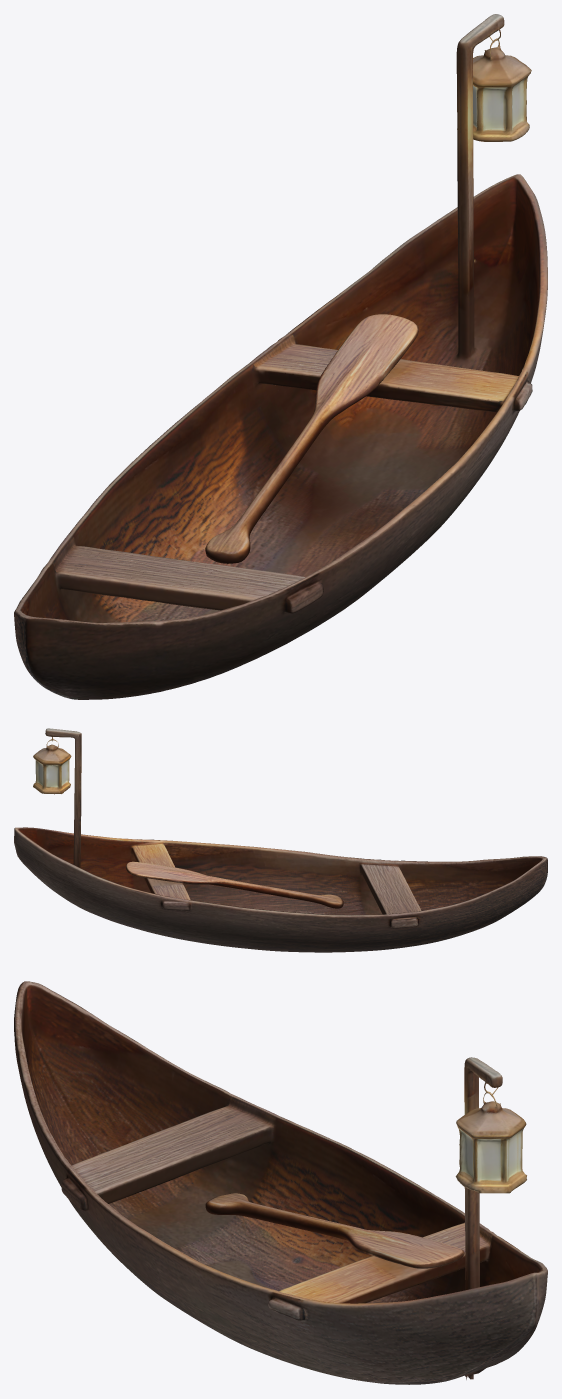
The model's file is boat.glb.
3 renders of one model, top to bottom at view 1: azimuth 30°, elevation 25°; view 2: azimuth 150°, elevation 25°; view 3: azimuth 270°, elevation 25°, orthographic. The views are drawn at different scales.
Parts seen in each view (by area): view 1: tripo_node_2b7b9e98; view 2: tripo_node_2b7b9e98; view 3: tripo_node_2b7b9e98.
Part boxes in pixels (<box>): tripo_node_2b7b9e98: <box>14,14,547,699</box>; tripo_node_2b7b9e98: <box>14,728,547,952</box>; tripo_node_2b7b9e98: <box>14,981,547,1384</box>.
Bounding box in the file's own units: 97.79 × 50.41 × 61.44.
1 material, 1 textured.
